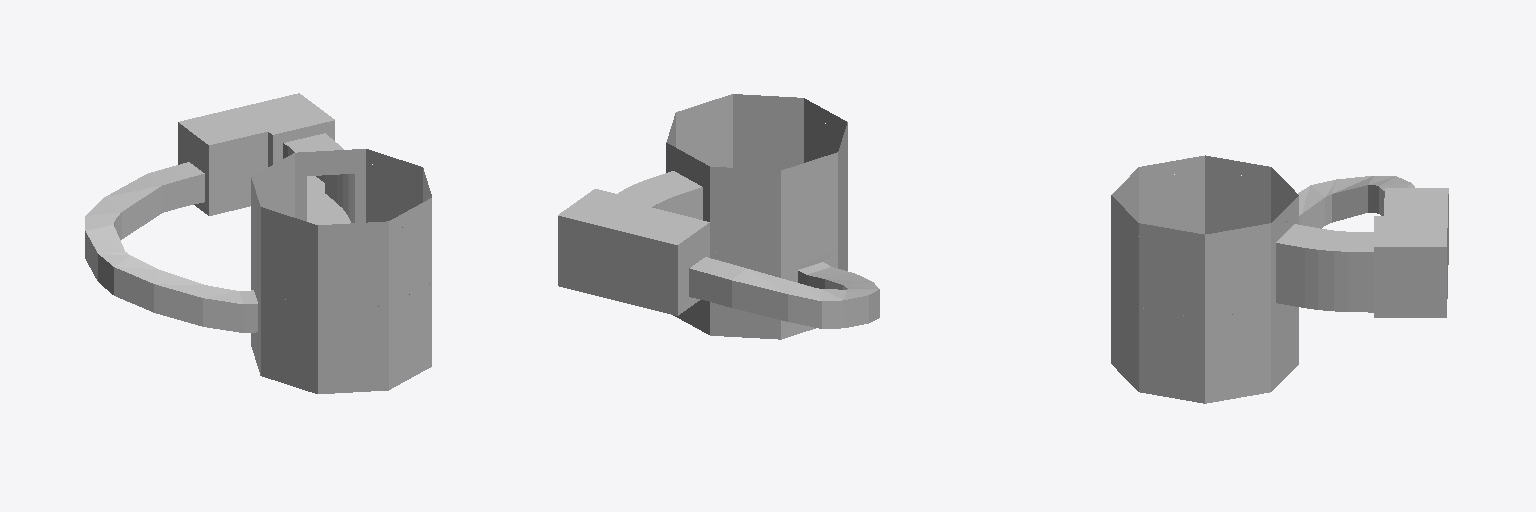
The model's file is switch_Room_Vent_Down_Fixed.obj.
3 views of the same model, side by side, from view 1: azimuth 30°, elevation 25°; view 2: azimuth 150°, elevation 25°; view 3: azimuth 270°, elevation 25° (orthographic).
Parts seen in each view (by area): view 1: Switch_Room, Vent_Up_Ring, Vent_Up_Output, Platform_Ring.001, Platform_Ring; view 2: Switch_Room, Vent_Up_Ring, Platform_Ring.001, Vent_Up_Output, Platform_Ring; view 3: Switch_Room, Vent_Up_Ring, Vent_Up_Output, Platform_Ring.001, Platform_Ring.
Boxes of the visible parts, x1,y1,x2,y2 form: Switch_Room: [85, 93, 354, 332]; Vent_Up_Ring: [251, 162, 431, 309]; Vent_Up_Output: [251, 276, 431, 393]; Platform_Ring.001: [251, 149, 431, 238]; Platform_Ring: [251, 262, 431, 323]; Switch_Room: [558, 171, 879, 328]; Vent_Up_Ring: [666, 108, 847, 254]; Platform_Ring.001: [666, 94, 847, 183]; Vent_Up_Output: [673, 221, 847, 339]; Platform_Ring: [710, 207, 847, 268]; Switch_Room: [1276, 176, 1448, 317]; Vent_Up_Ring: [1111, 169, 1298, 318]; Vent_Up_Output: [1111, 294, 1298, 403]; Platform_Ring.001: [1111, 155, 1298, 247]; Platform_Ring: [1111, 280, 1286, 332].
Bounding box in the file's own units: 19.15 × 11.94 × 21.57.